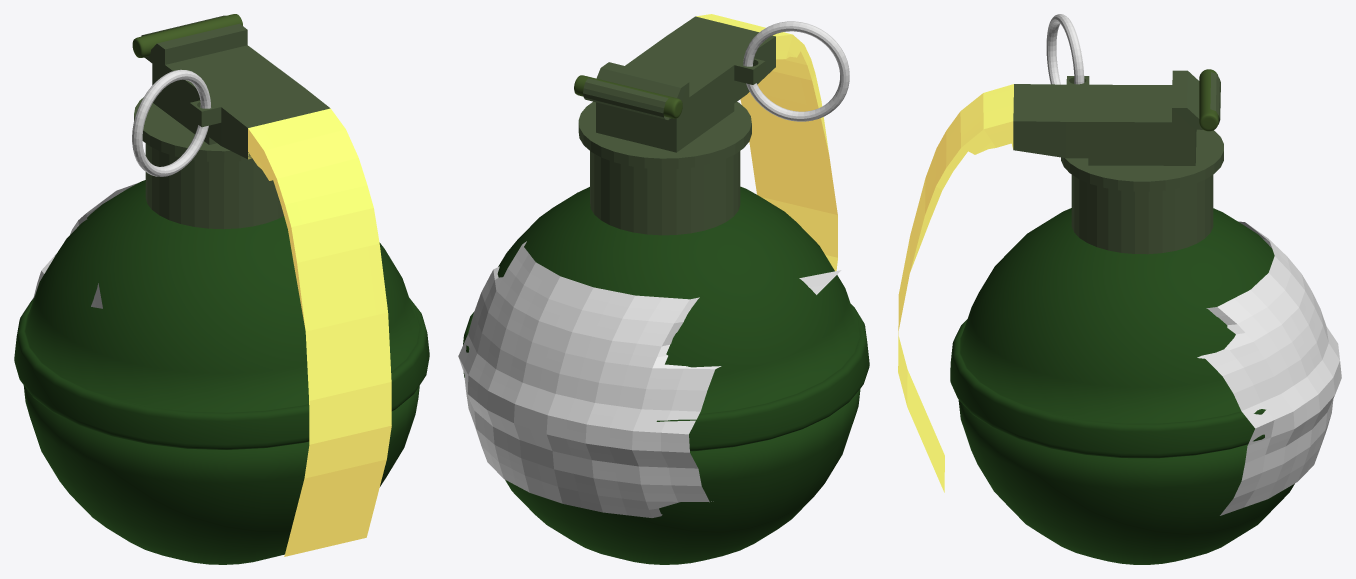
File: grenade.fbx
3 views of the same model, side by side, from view 1: azimuth 30°, elevation 25°; view 2: azimuth 150°, elevation 25°; view 3: azimuth 270°, elevation 25° (orthographic). The views are drawn at different scales.
Visible parts, largest first — view 1: 球体, 球体.002, 球体.001, 环体, 柱体, 平面; view 2: 球体, 平面, 球体.001, 球体.002, 环体, 柱体; view 3: 球体, 球体.001, 平面, 球体.002, 环体, 柱体.
Boxes of the visible parts, x1,y1,x2,y2 form: 球体: [14, 180, 429, 564]; 球体.002: [248, 108, 391, 556]; 球体.001: [134, 15, 330, 229]; 环体: [132, 69, 210, 176]; 柱体: [132, 14, 242, 57]; 平面: [32, 183, 137, 308]; 球体: [463, 186, 869, 564]; 平面: [458, 241, 841, 517]; 球体.001: [578, 16, 775, 235]; 球体.002: [696, 14, 837, 271]; 环体: [743, 21, 849, 121]; 柱体: [574, 75, 682, 118]; 球体: [950, 208, 1294, 564]; 球体.001: [1013, 70, 1223, 254]; 平面: [1197, 221, 1341, 515]; 球体.002: [898, 84, 1013, 492]; 环体: [1046, 14, 1084, 84]; 柱体: [1199, 69, 1218, 131].
Size of the model in its own units: 207 by 290 by 239.
